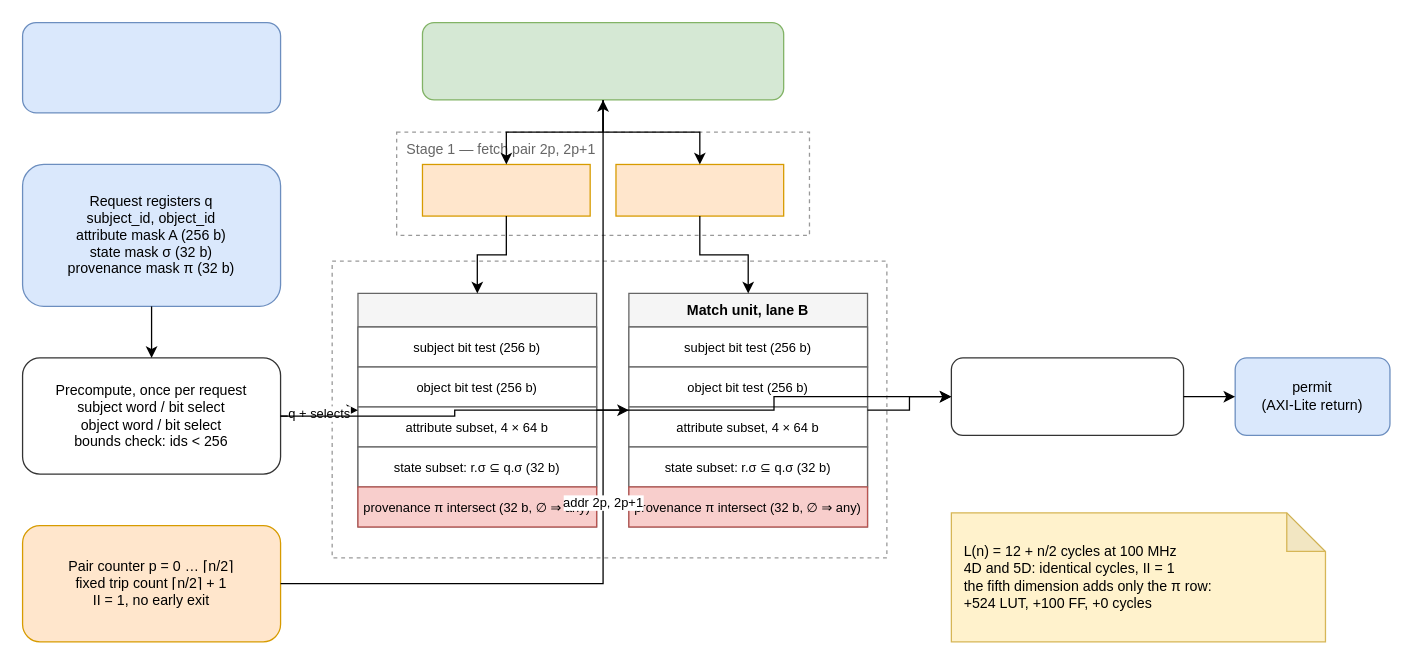
Image size: 1413x664. Some labels were removed from this diagram. The box of each missing label's shape, as (x1, y1, x2, y2) in pixels:
AXI4-Lite slave start / done / permit rule_count n: (21, 21, 281, 113)
lane A ∨ lane B found: sticky OR register: (950, 357, 1184, 435)
Match unit, lane A: (357, 292, 597, 527)
Policy rule memory (BRAM port) up to 512 PolicyRule entries: (421, 21, 784, 100)
rule_a_reg: (421, 163, 590, 216)
rule_b_reg: (615, 163, 784, 216)
Stage 2 — match (5-input AND per lane): (331, 260, 887, 558)
